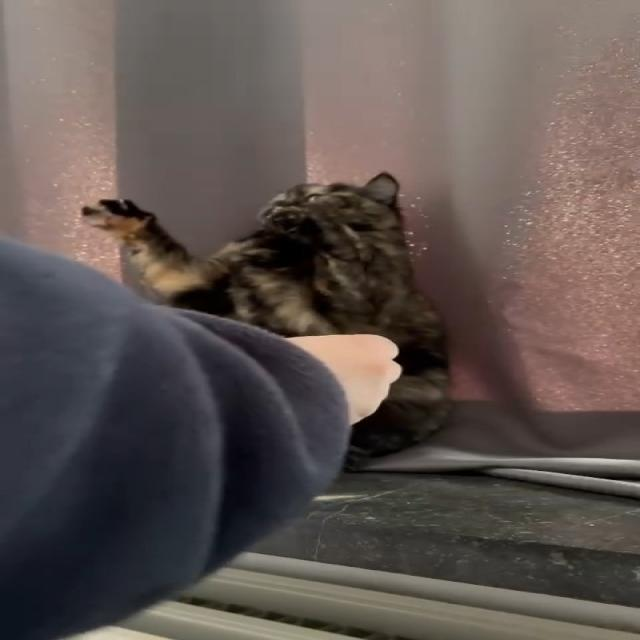authorized: (78, 171, 454, 470)
